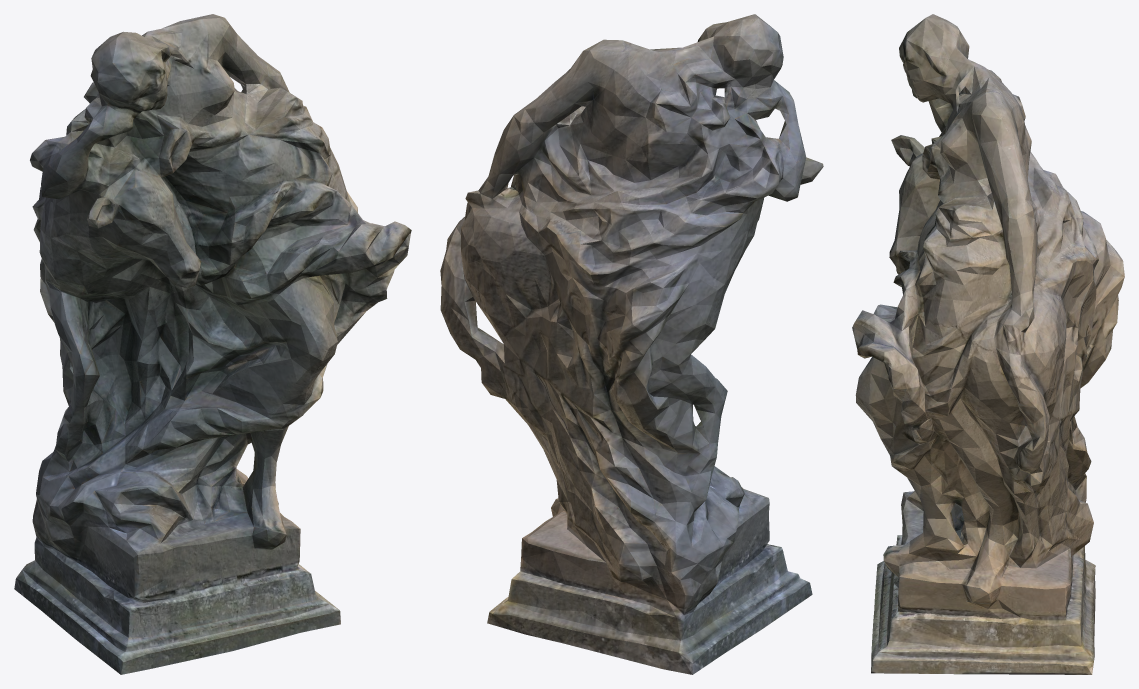
Rendered from lenost.glb.
The picture shows the model from 3 angles, left to right: view 1: azimuth 30°, elevation 25°; view 2: azimuth 150°, elevation 25°; view 3: azimuth 270°, elevation 25°; orthographic projection. The views are drawn at different scales.
Visible parts, largest first — view 1: lowpoly-export; view 2: lowpoly-export; view 3: lowpoly-export.
Boxes of the visible parts, left/top/right/bottom form: lowpoly-export: left=14, top=14, right=411, bottom=674; lowpoly-export: left=440, top=14, right=823, bottom=674; lowpoly-export: left=852, top=14, right=1124, bottom=674.
Size of the model in its own units: 2.15 by 3.79 by 1.63.
1 material, 1 textured.
